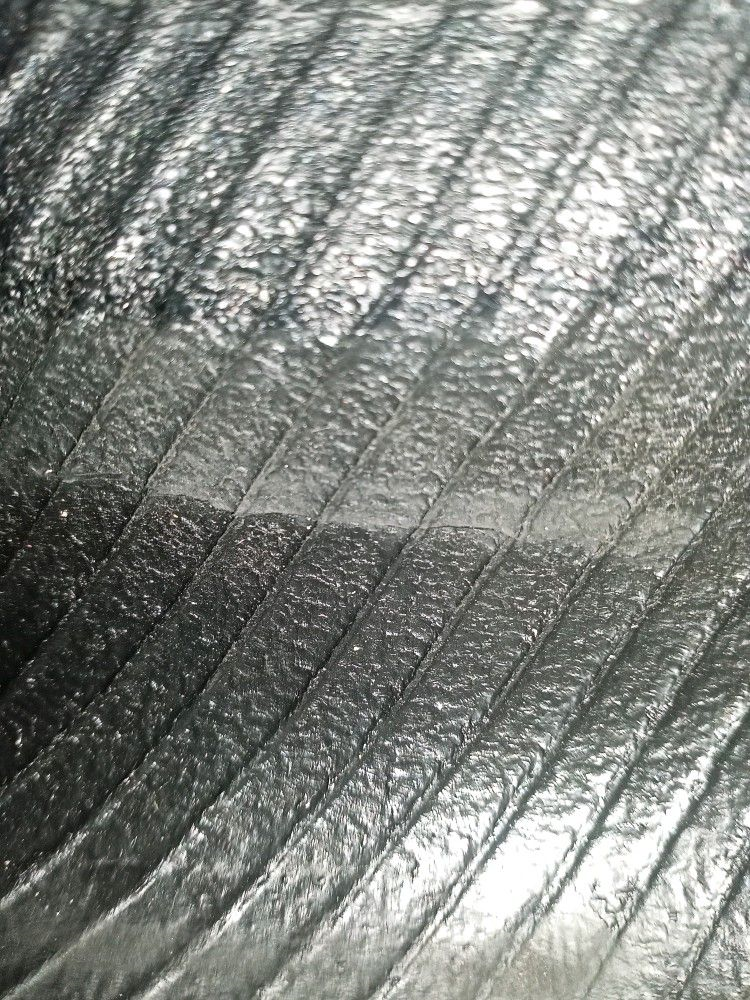CBU: (134, 461, 707, 571)
